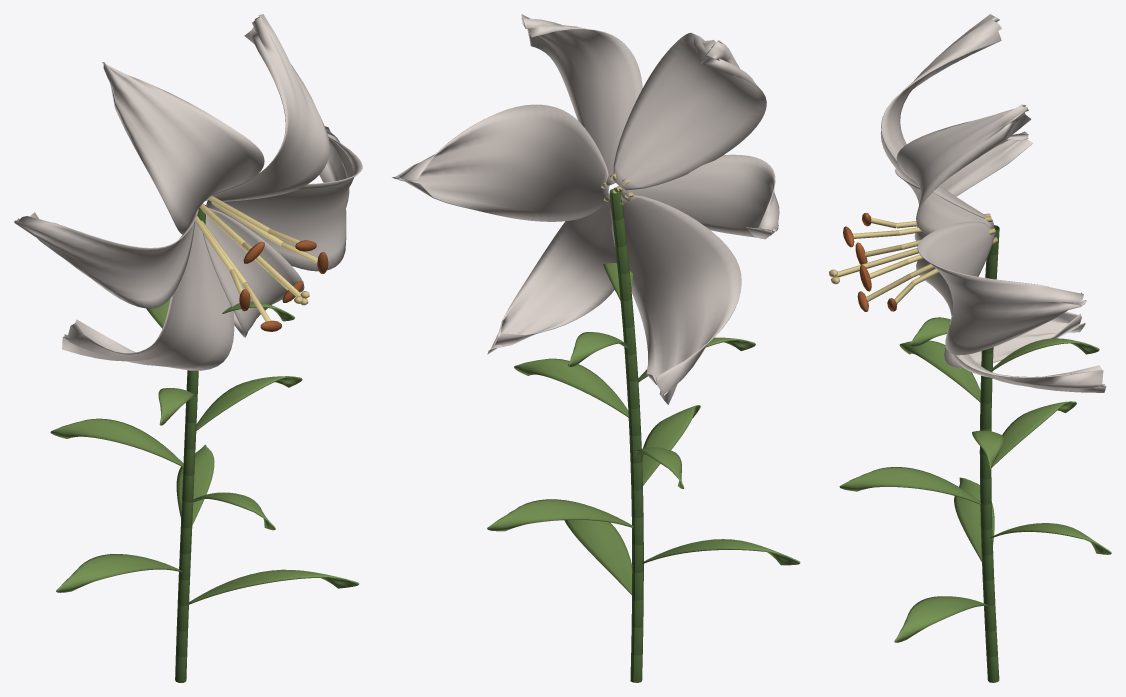
Rendered from true-lily-rare-v2.glb.
3 views of the same model, side by side, from view 1: azimuth 30°, elevation 25°; view 2: azimuth 150°, elevation 25°; view 3: azimuth 270°, elevation 25° (orthographic). The views are drawn at different scales.
Visible parts, largest first — view 1: true-lily-rare-v2-petal, true-lily-rare-v2-leaf, true-lily-rare-v2-stem, true-lily-rare-v2-center, true-lily-rare-v2-pollen; view 2: true-lily-rare-v2-petal, true-lily-rare-v2-leaf, true-lily-rare-v2-stem; view 3: true-lily-rare-v2-petal, true-lily-rare-v2-leaf, true-lily-rare-v2-stem, true-lily-rare-v2-center, true-lily-rare-v2-pollen.
Boxes of the visible parts, bbox=[...] form: true-lily-rare-v2-petal: bbox=[14, 14, 362, 370]; true-lily-rare-v2-leaf: bbox=[50, 298, 358, 604]; true-lily-rare-v2-stem: bbox=[175, 205, 205, 682]; true-lily-rare-v2-center: bbox=[195, 196, 317, 321]; true-lily-rare-v2-pollen: bbox=[239, 240, 328, 331]; true-lily-rare-v2-petal: bbox=[392, 14, 779, 404]; true-lily-rare-v2-leaf: bbox=[487, 263, 800, 594]; true-lily-rare-v2-stem: bbox=[609, 188, 643, 682]; true-lily-rare-v2-petal: bbox=[880, 14, 1106, 392]; true-lily-rare-v2-leaf: bbox=[839, 317, 1111, 642]; true-lily-rare-v2-stem: bbox=[979, 225, 999, 682]; true-lily-rare-v2-center: bbox=[829, 213, 998, 303]; true-lily-rare-v2-pollen: bbox=[843, 213, 897, 311].
Size of the model in its own units: 1.22 by 2.16 by 0.8803.
